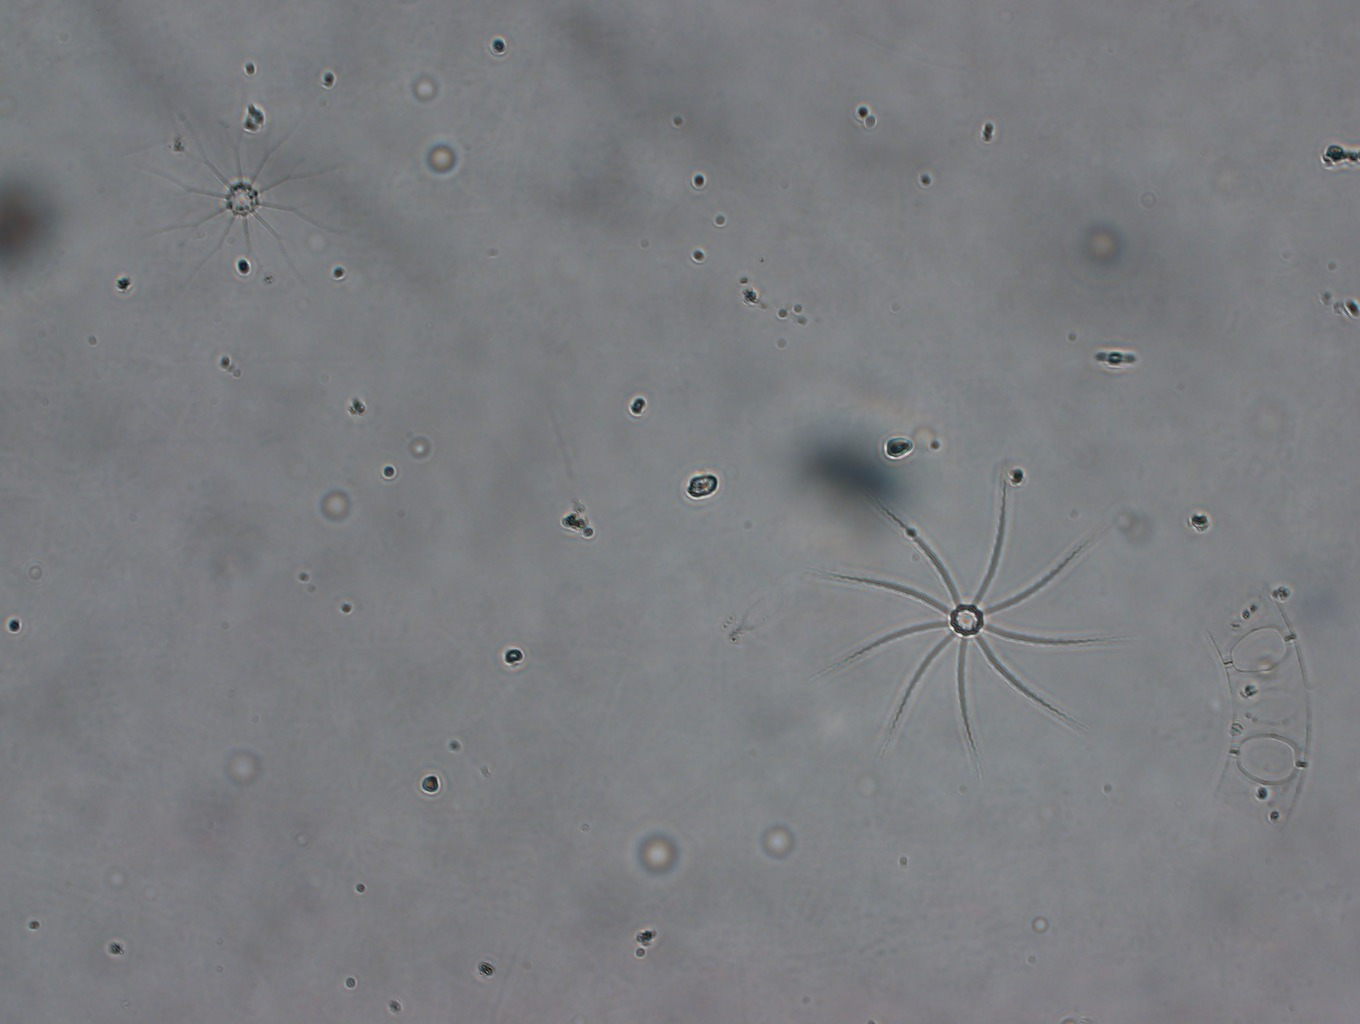bacteriastrum: (803, 459, 1135, 781), (131, 100, 352, 303)
eucampia: (1183, 583, 1318, 843)
